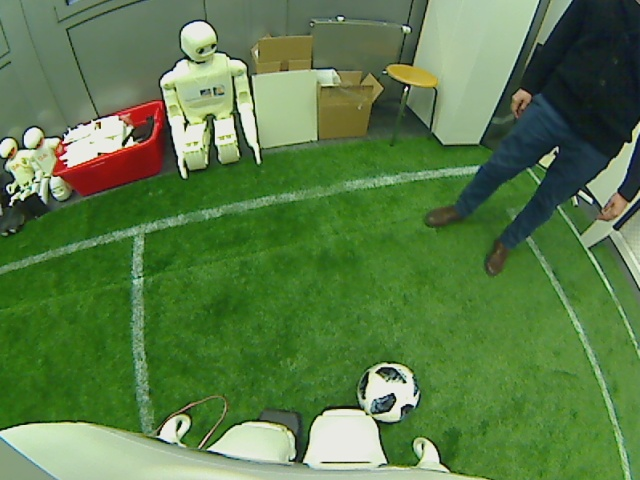ball: (356, 359, 423, 421)
